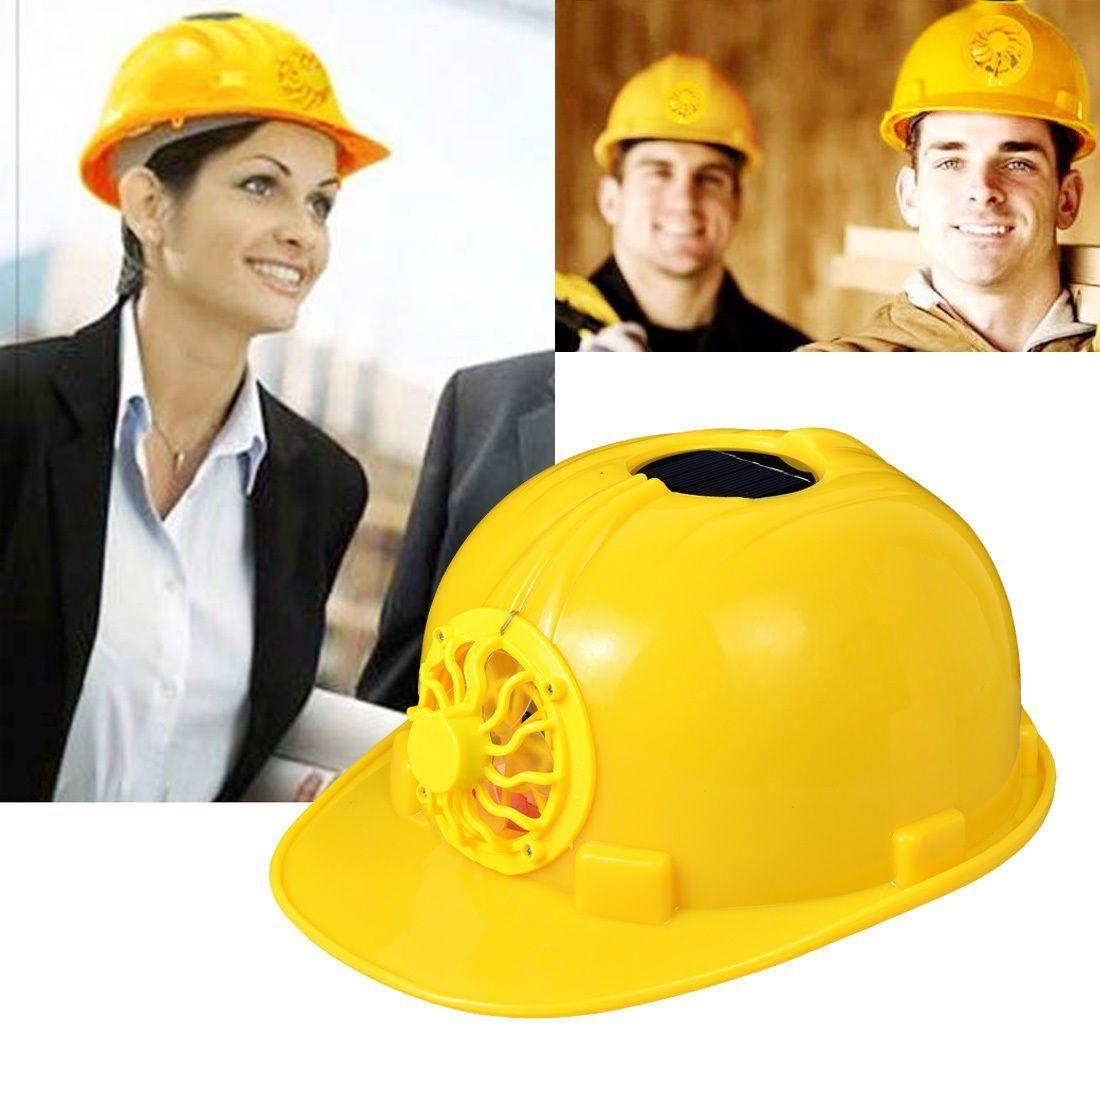helmet: (268, 424, 1055, 1000), (76, 12, 390, 201), (877, 2, 1096, 149), (595, 51, 761, 168)
